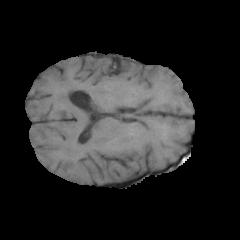glioma: (63, 62, 156, 120)
